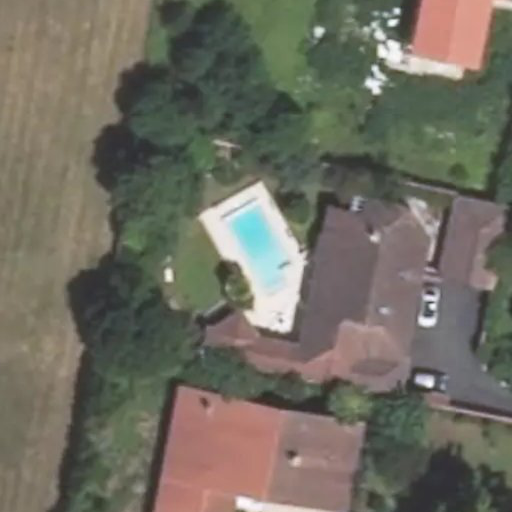pool: (220, 211, 298, 273)
